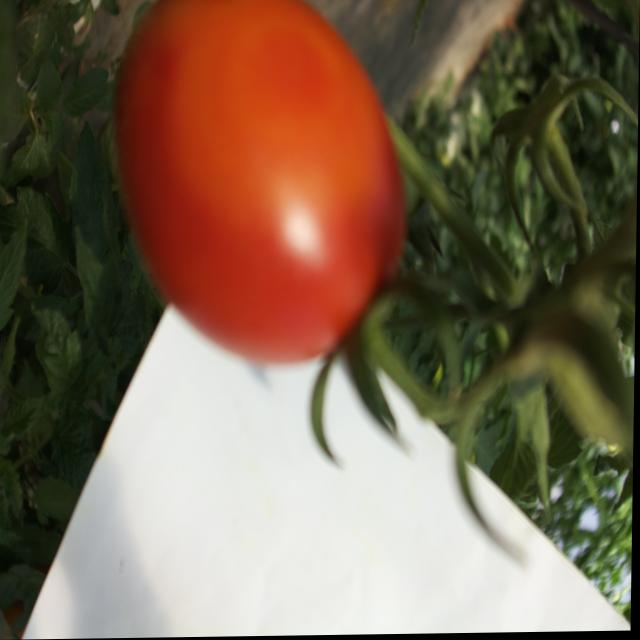kirmizi: (101, 0, 449, 372)
